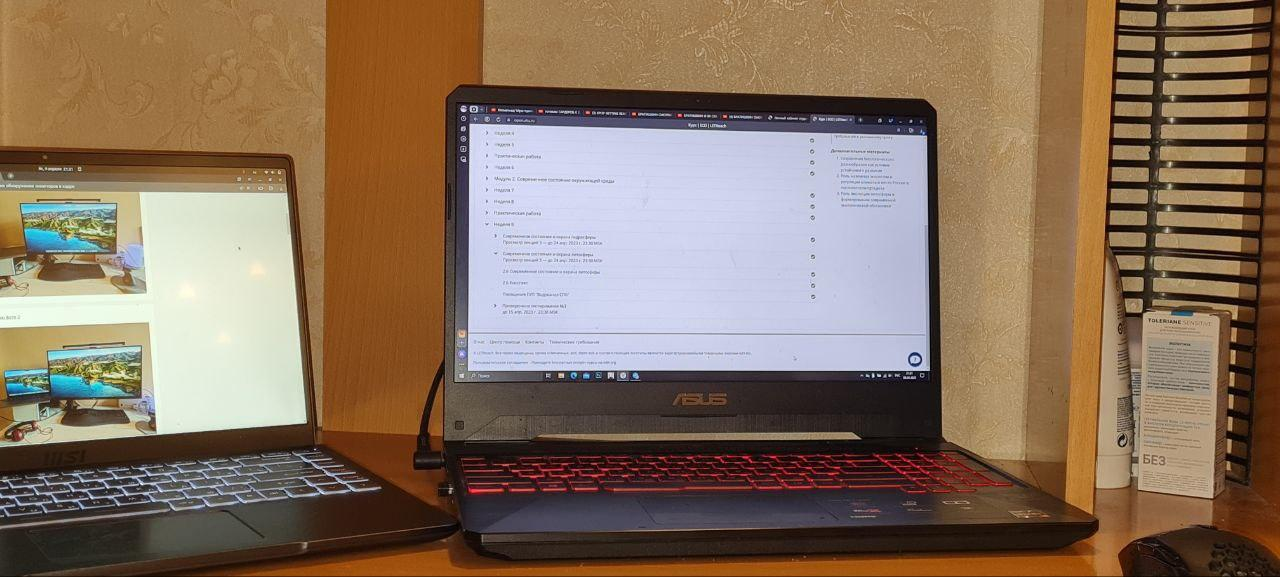monitor: (438, 79, 948, 445), (0, 135, 321, 485)
